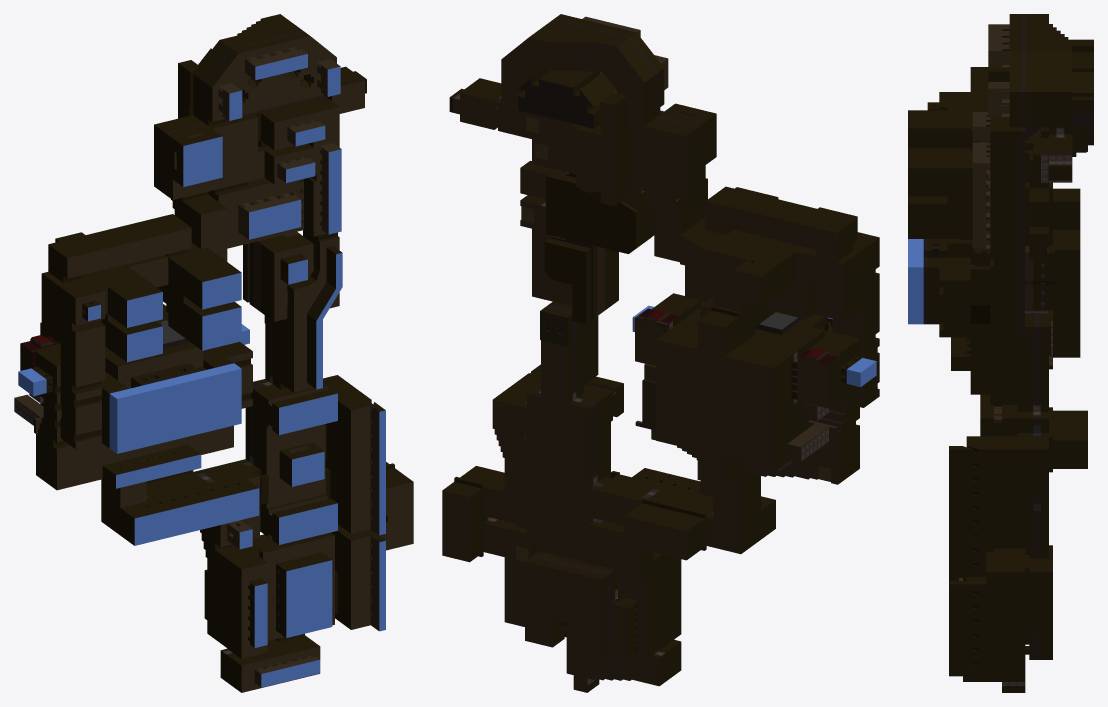
3 renders of one model, left to right at view 1: azimuth 30°, elevation 25°; view 2: azimuth 150°, elevation 25°; view 3: azimuth 270°, elevation 25°, orthographic. The views are drawn at different scales.
Visible parts, largest first — view 1: dm2; view 2: dm2; view 3: dm2.
Boxes of the visible parts, x1,y1,x2,y2 form: dm2: [14, 14, 413, 692]; dm2: [442, 14, 879, 692]; dm2: [908, 14, 1093, 692].
Bounding box in the file's own units: 1856 × 2944 × 760.
Materials: 29 (29 with a texture image).
